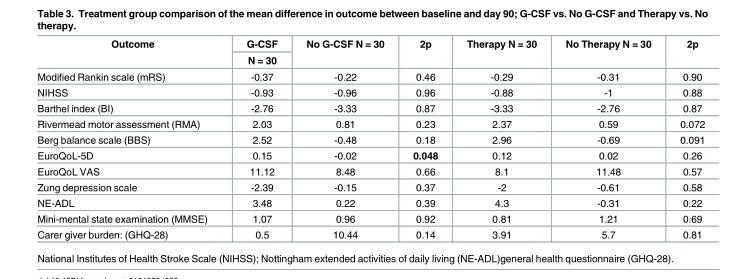table: (36, 37, 704, 239)
table column: (36, 37, 226, 239), (550, 37, 664, 239), (291, 37, 397, 239), (451, 37, 550, 239), (226, 37, 291, 239), (397, 37, 451, 239), (664, 37, 704, 239)
table column header: (36, 37, 704, 67)
table row: (36, 67, 704, 84), (36, 51, 704, 67), (36, 99, 704, 115), (36, 115, 704, 131), (36, 146, 704, 162), (36, 162, 704, 178), (36, 178, 704, 194), (36, 194, 704, 210), (36, 210, 704, 226), (36, 84, 704, 99), (36, 131, 704, 146), (36, 37, 704, 51), (36, 226, 704, 239)
table spanning cell: (36, 37, 226, 67), (550, 37, 664, 67), (291, 37, 397, 67), (451, 37, 550, 67), (226, 37, 291, 67), (397, 37, 451, 67), (664, 37, 704, 67)
